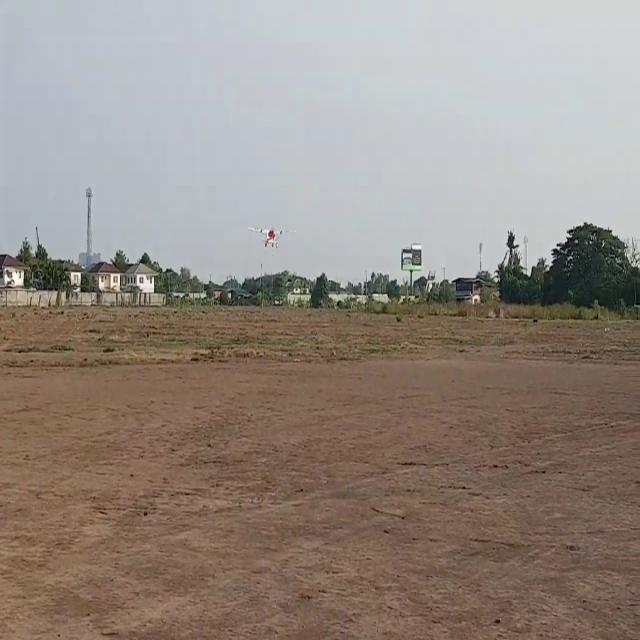iha: (247, 224, 299, 248)
